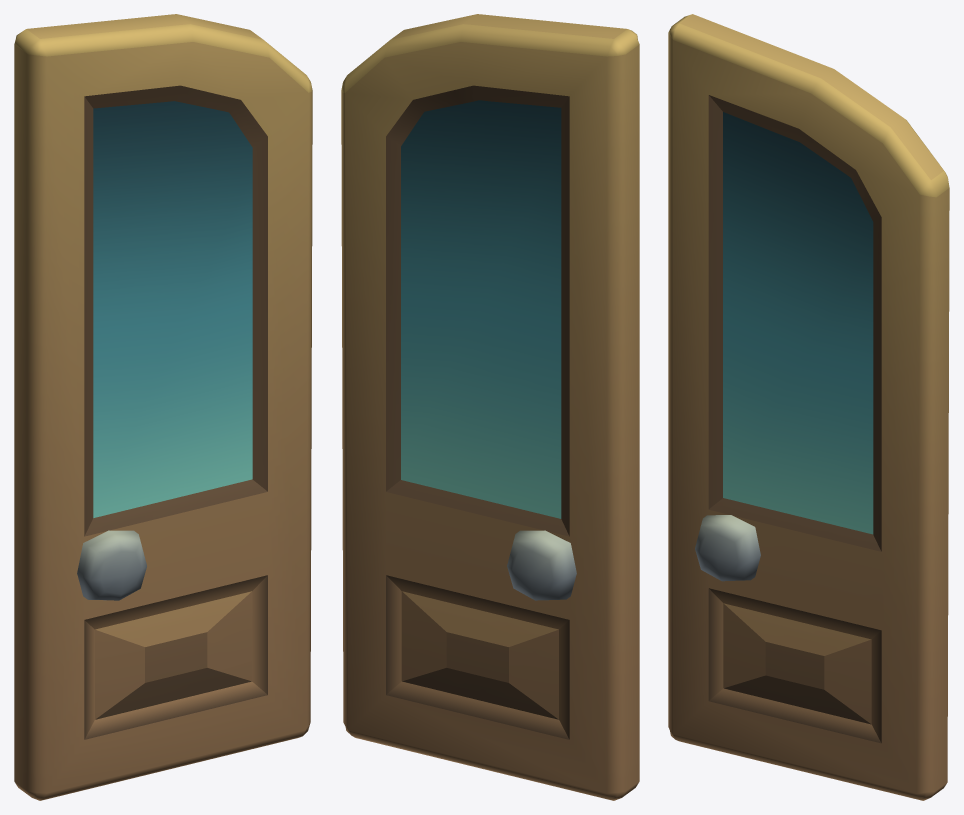
The model's file is door_appartment_arch_col2_LOD_setup.fbx.
The picture shows the model from 3 angles, left to right: view 1: azimuth 30°, elevation 25°; view 2: azimuth 150°, elevation 25°; view 3: azimuth 330°, elevation 25°; orthographic projection. The views are drawn at different scales.
Parts seen in each view (by area): view 1: door_appartment_arch_col2_LOD0; view 2: door_appartment_arch_col2_LOD0; view 3: door_appartment_arch_col2_LOD0.
Boxes of the visible parts, x1,y1,x2,y2 form: door_appartment_arch_col2_LOD0: [14, 14, 312, 800]; door_appartment_arch_col2_LOD0: [341, 14, 639, 800]; door_appartment_arch_col2_LOD0: [668, 14, 949, 800].
Size of what is drawn, in the model's own units: 105 by 269 by 36.84.
